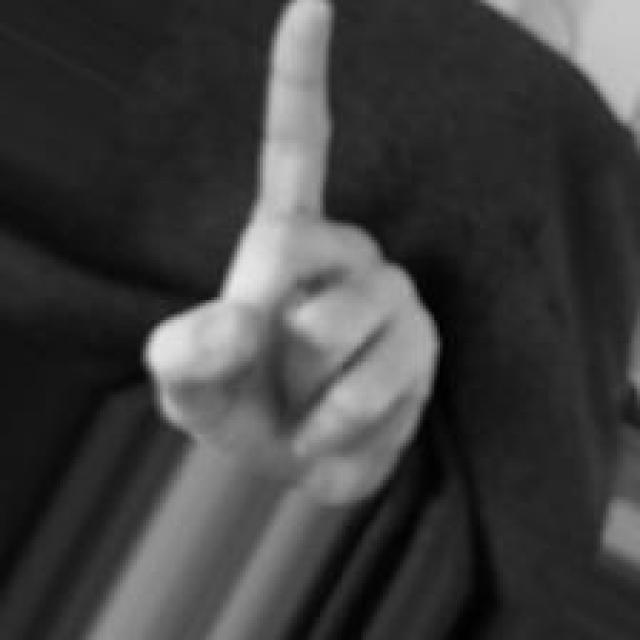I: (144, 0, 444, 510)
